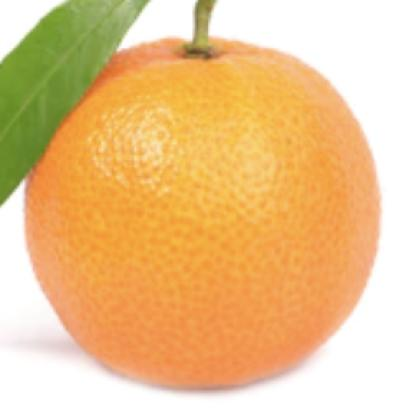fresh: (22, 30, 378, 385)
